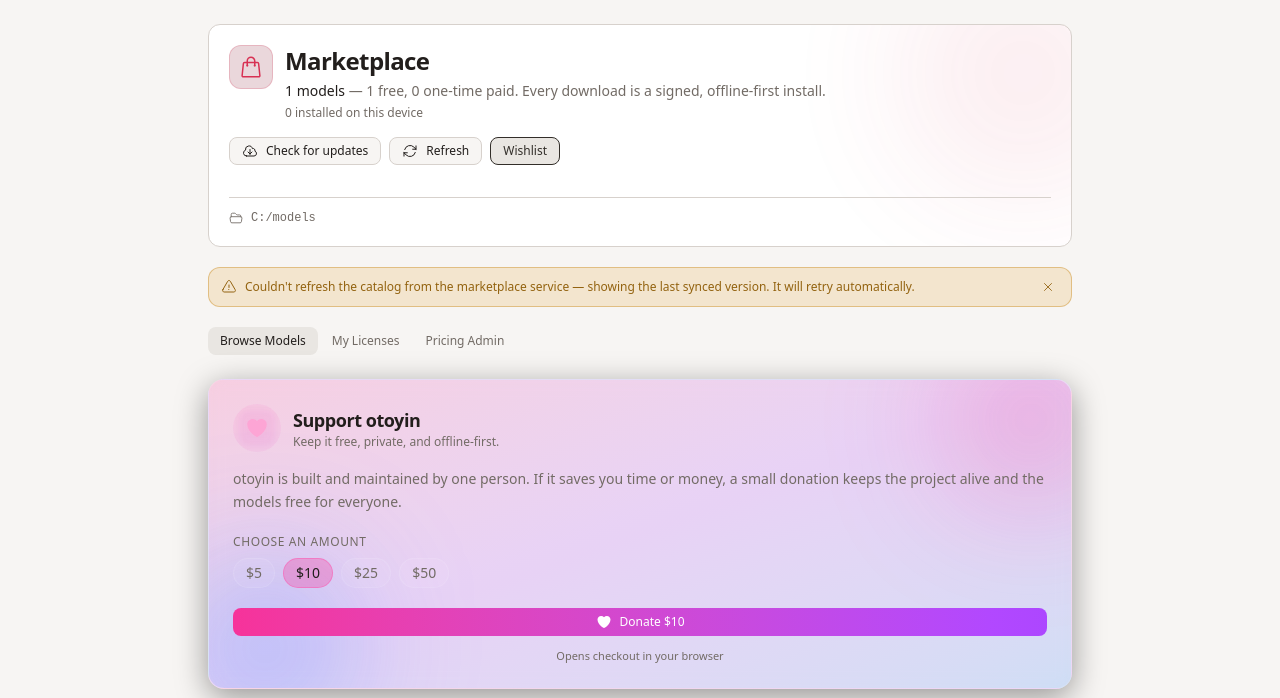
Test: StorePage refresh-failure hint › clears the hint on the next successful check
The width and height of the screenshot is (1280, 698).
Expected: the text "showing the last synced version" is shown, x1=245 y1=278 x2=915 y2=295
Step 1. Click the button "Check for updates" → (305, 151), box x1=229 y1=137 x2=381 y2=165
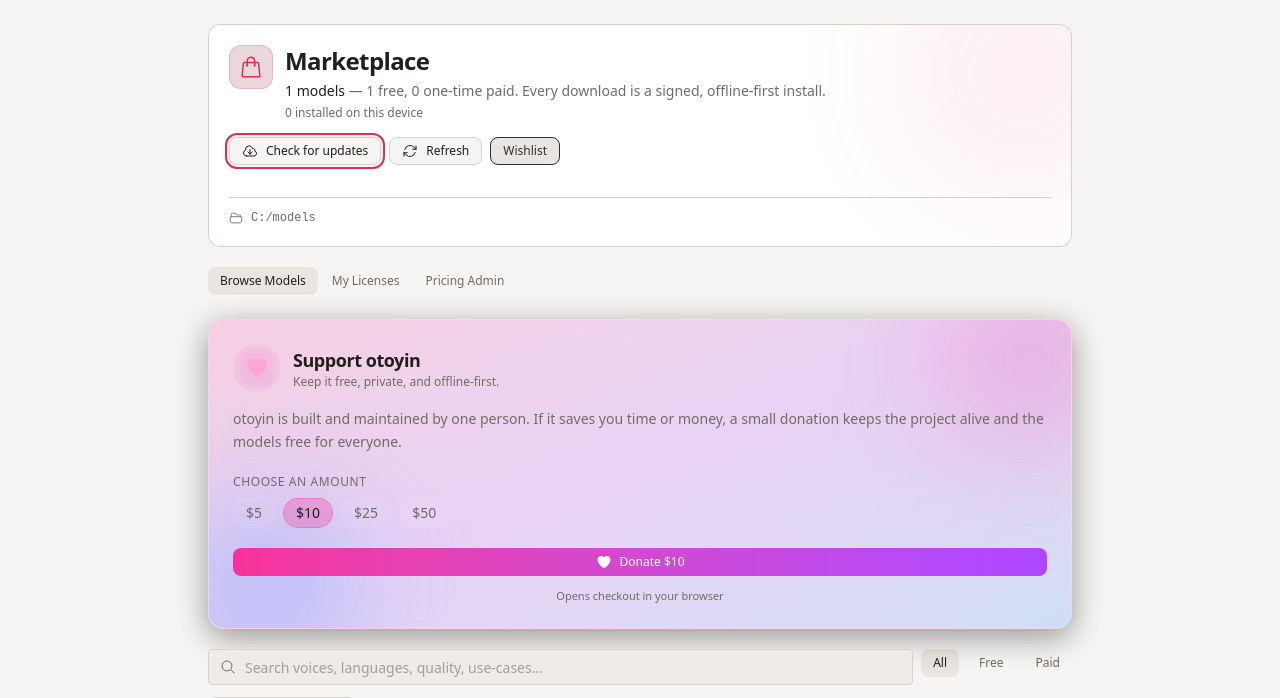
Expected: the text "showing the last synced version" is gone
